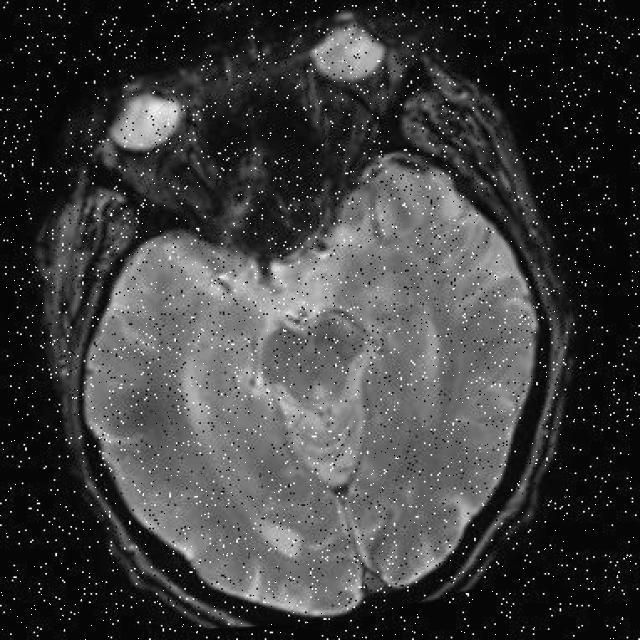MCI: (83, 340, 203, 484), (338, 142, 451, 236)
